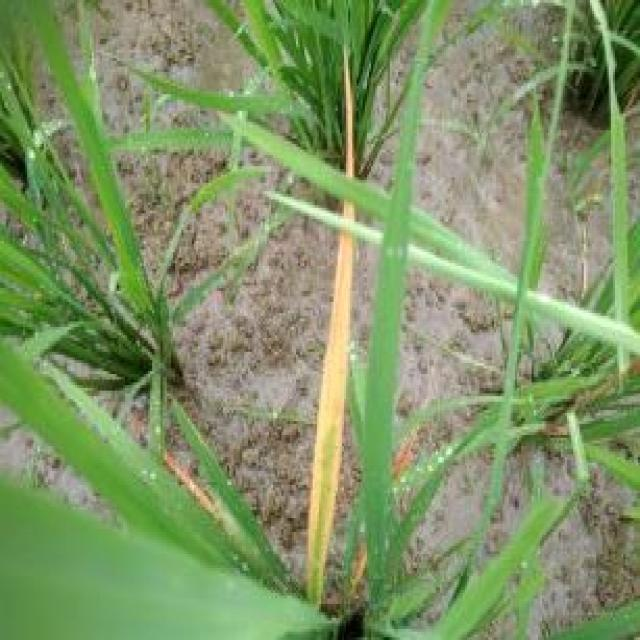Tungro: (306, 41, 358, 640)
